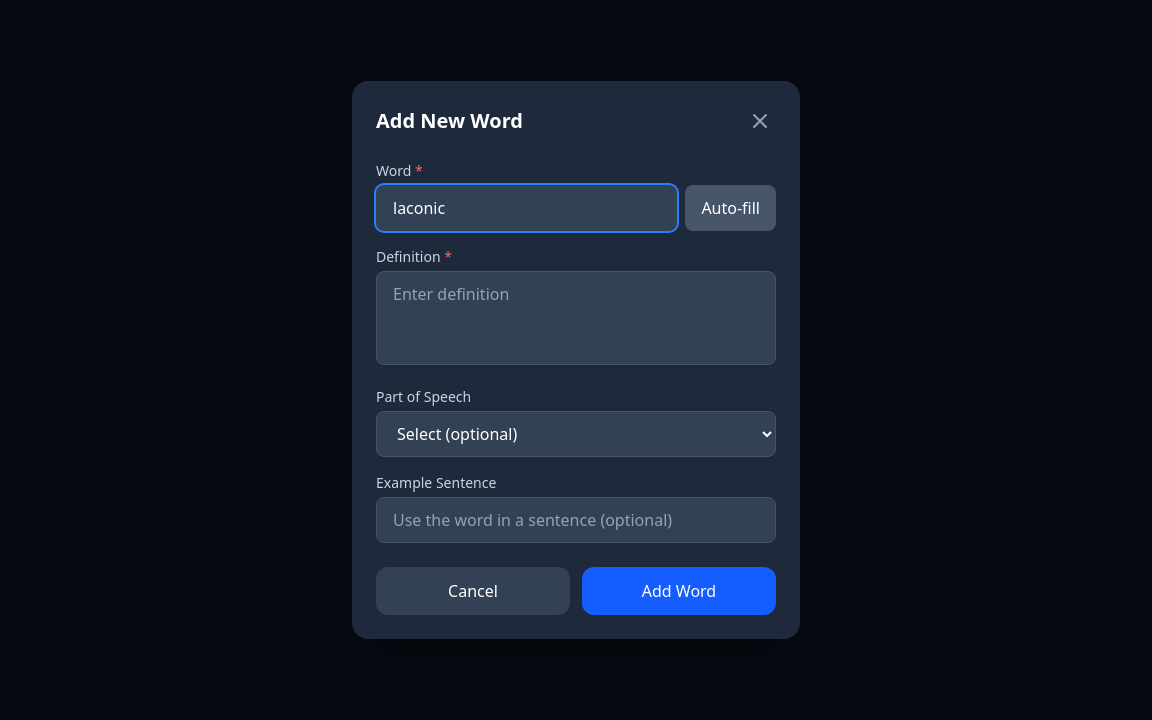
Test case: AddWordModal › auto-fills the definition from the dictionary
Click the button "Auto-fill" at [731, 208], box 685,185 -> 776,231
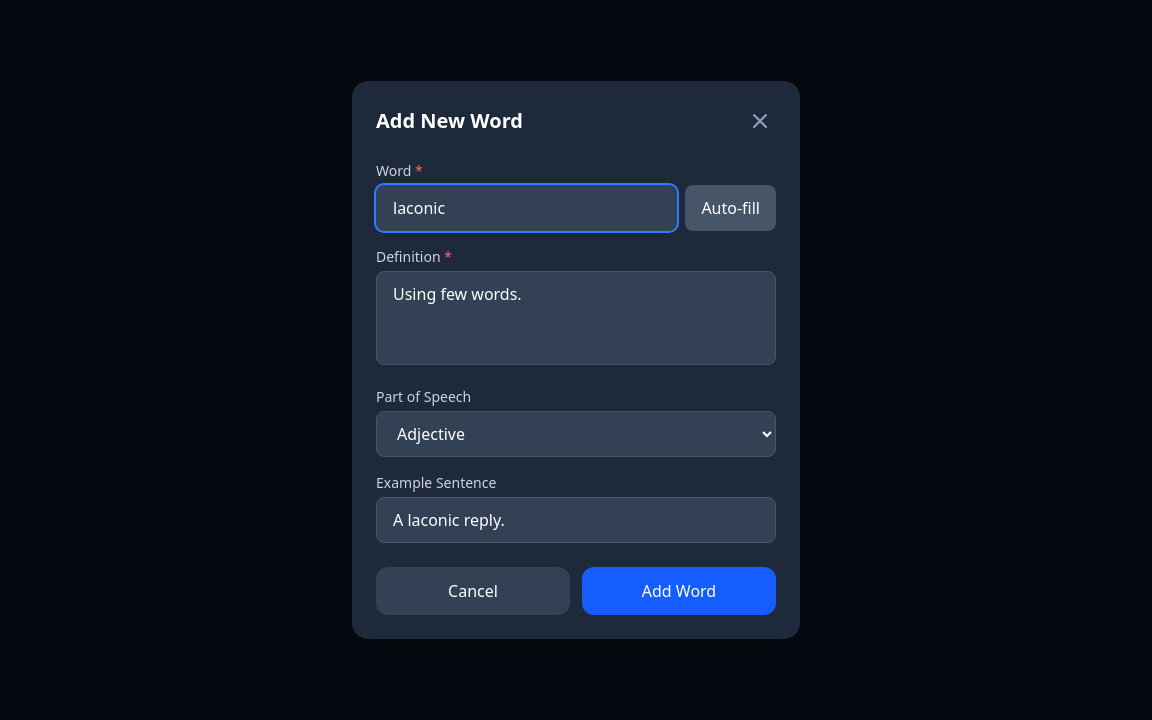
Now the text box labelled "Definition *" holds "Using few words.", box 376,271 -> 776,365
Now the field labelled "Example Sentence" holds "A laconic reply.", box 376,497 -> 776,543
